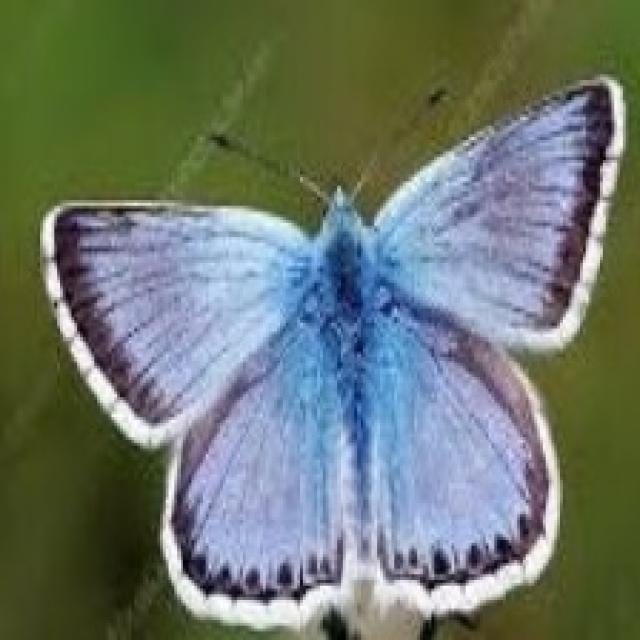butterfly: (34, 69, 629, 637)
